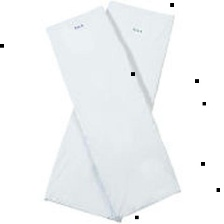foam_box: (37, 0, 185, 224)
